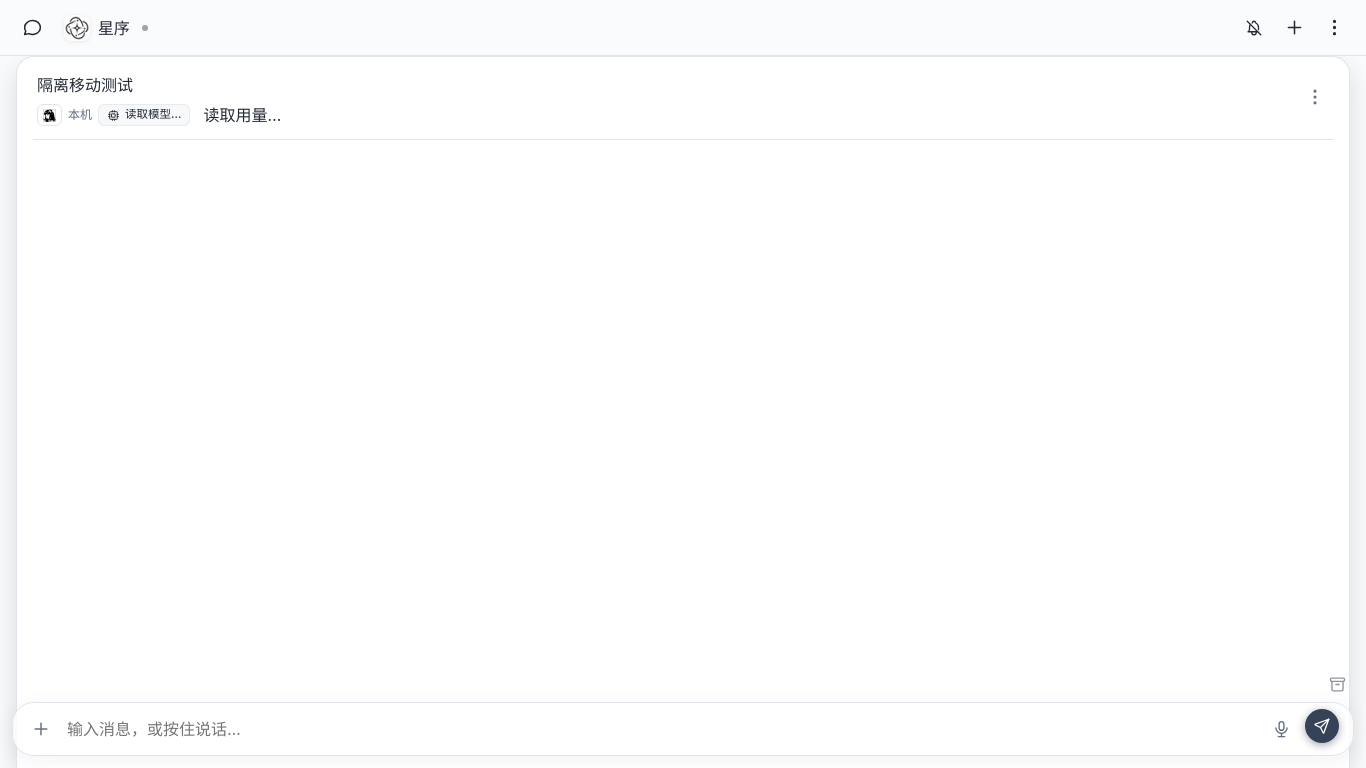
Scenario: independent mobile composer › opens the complete mobile workbench from session actions
Click the button named "会话操作" at (1315, 97), box [1295,77,1335,117]
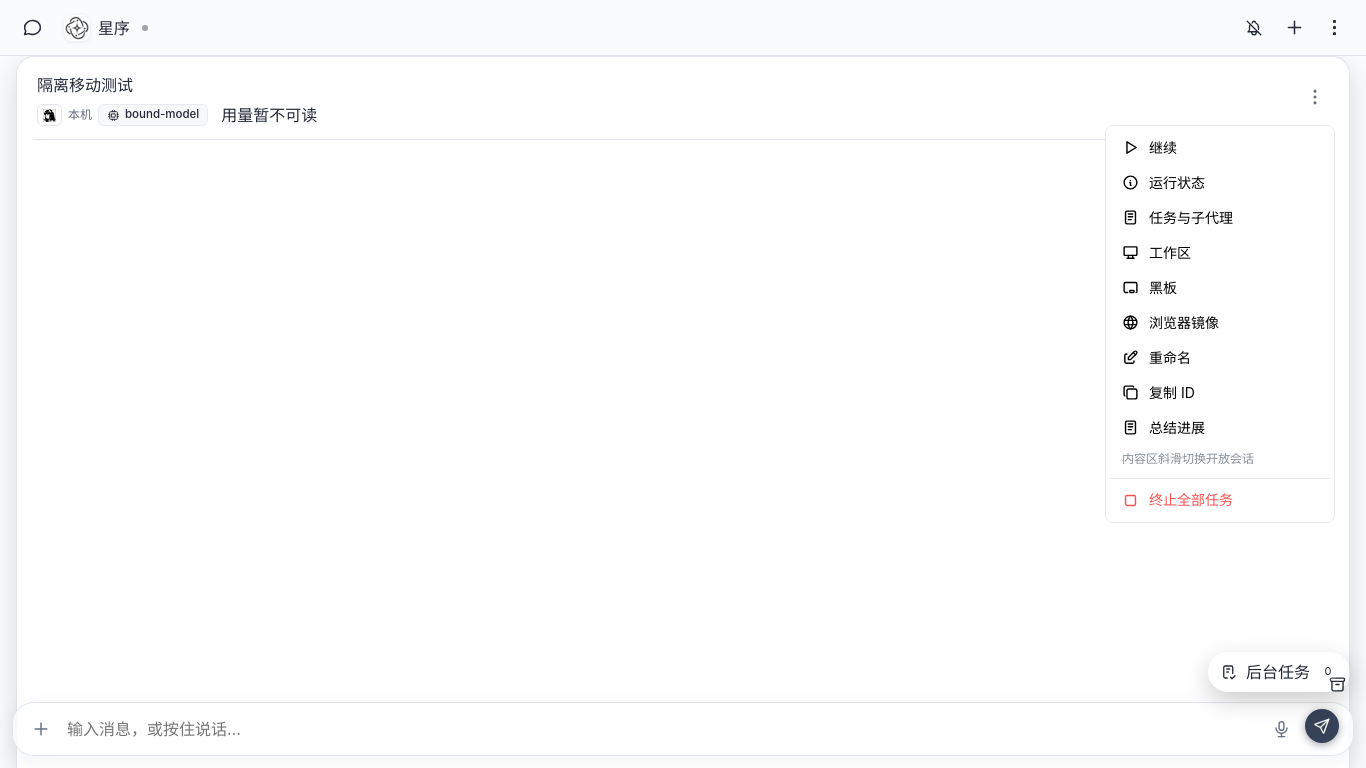
Click the menu item "工作区" at (1220, 252), box [1110,235,1330,270]
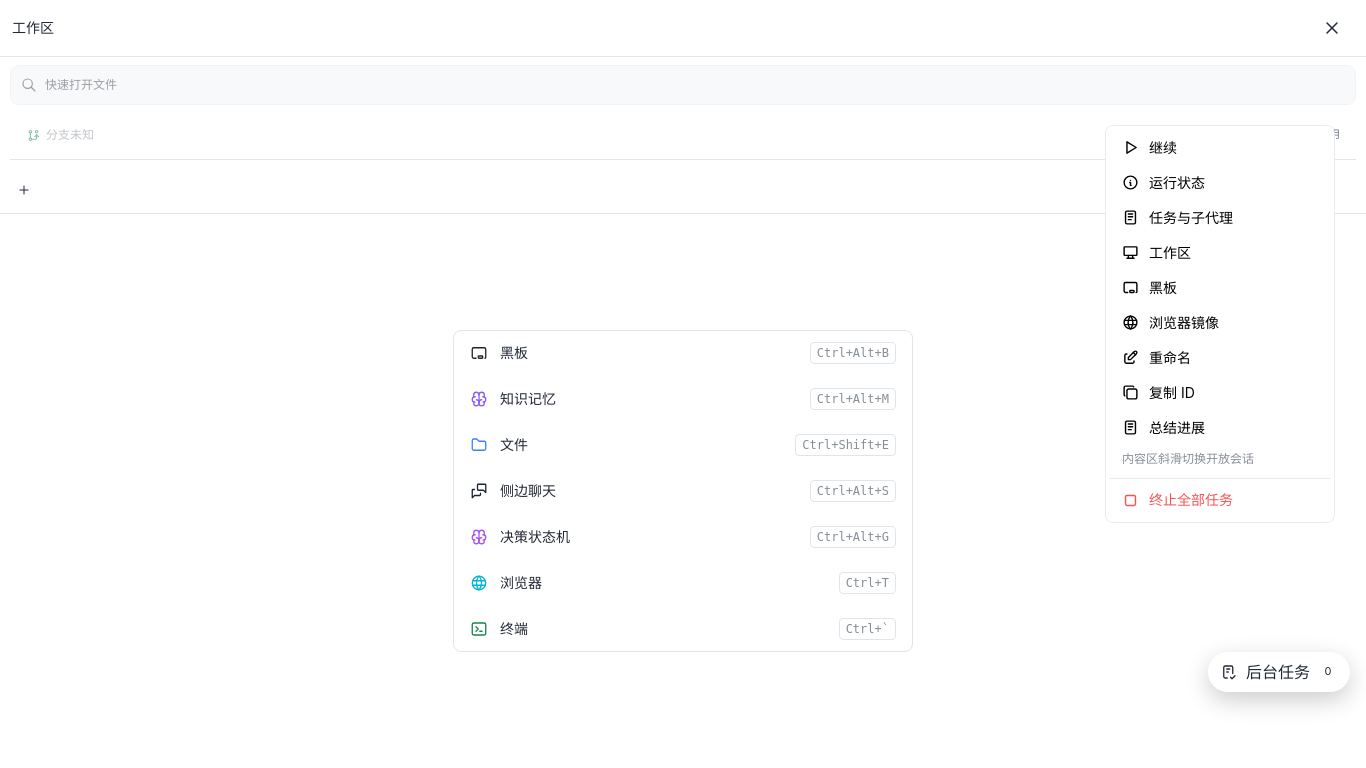
Click the button named "关闭工作区" at (1332, 28), box [1310,6,1354,50]
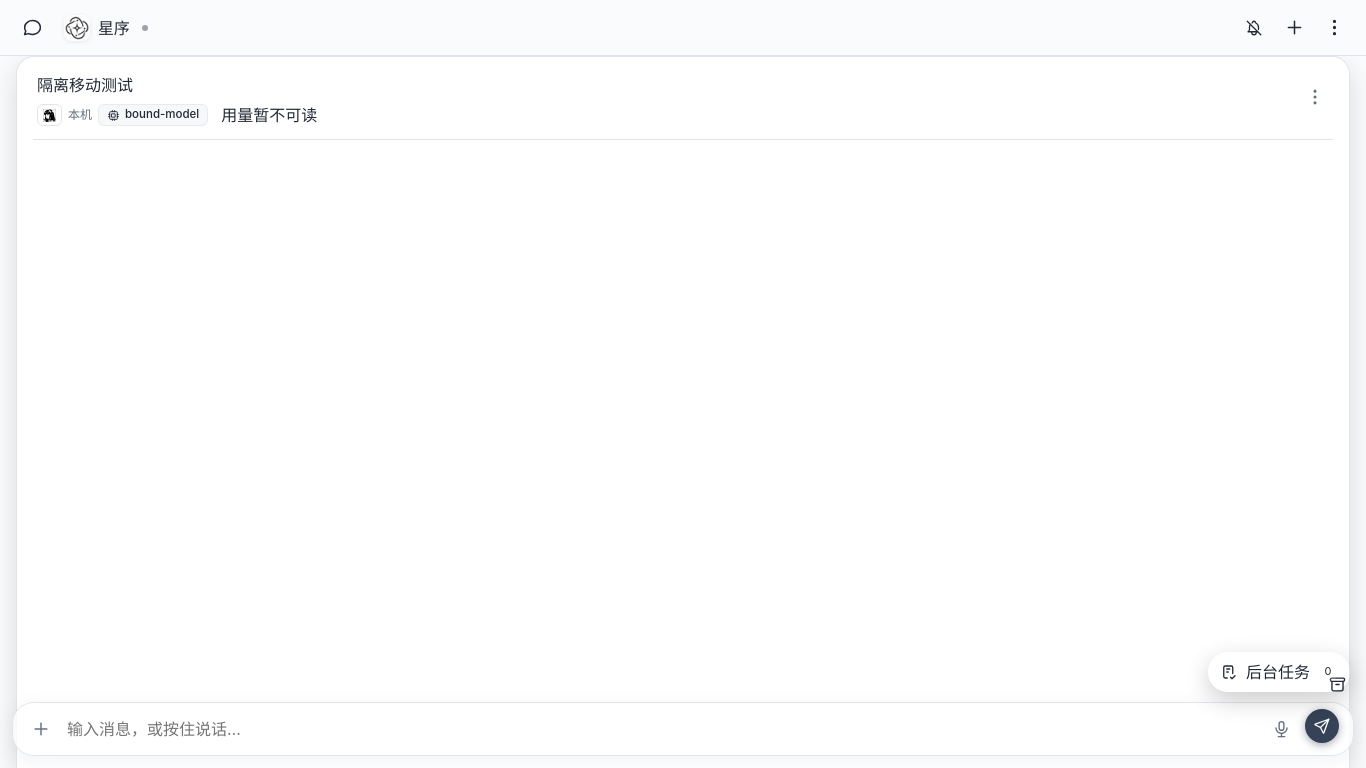
Now the dialog "会话工作区" is gone
